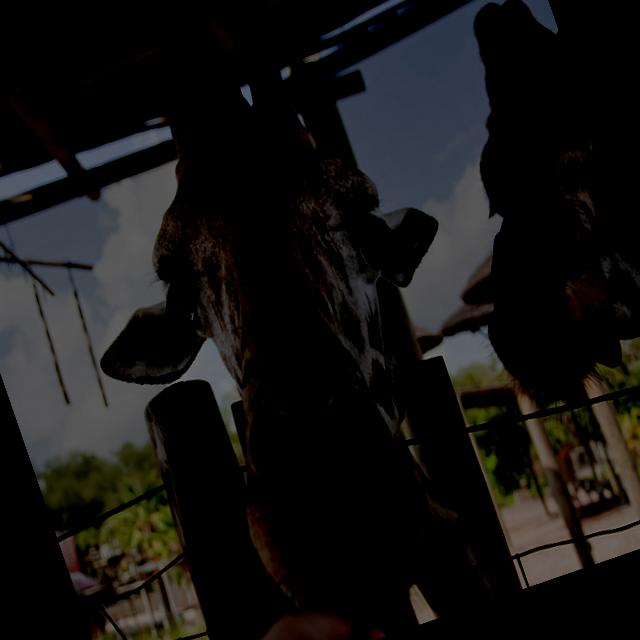Vehicle: (566, 446, 596, 486)
